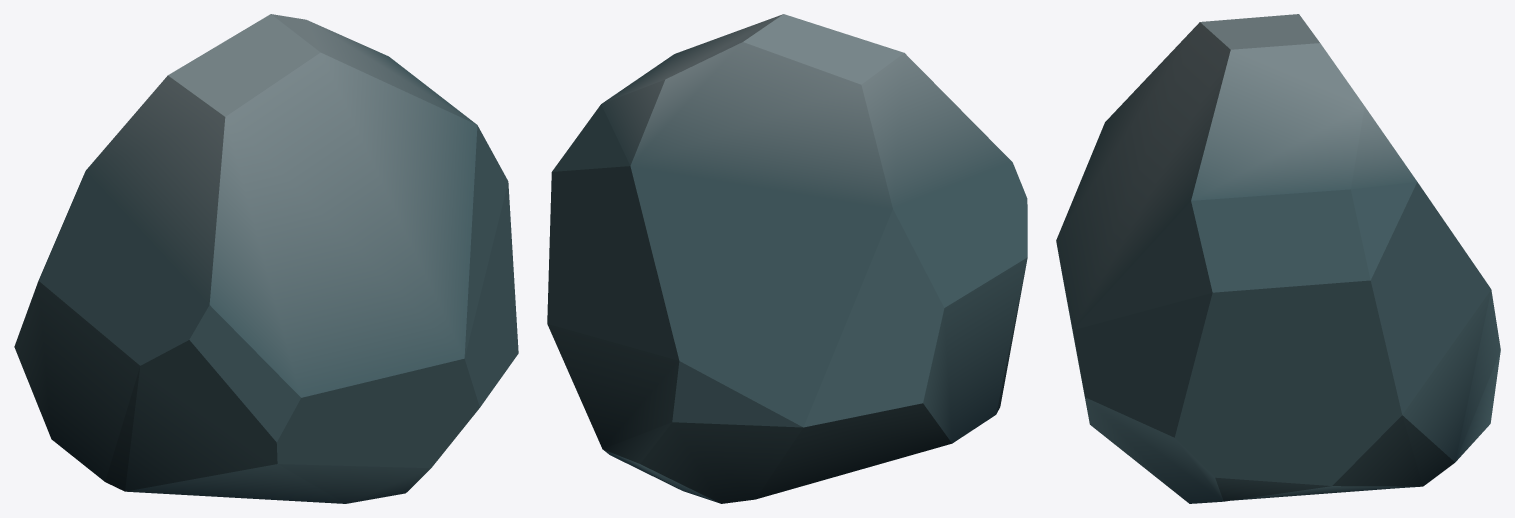
The model's file is Rock 5.fbx.
The picture shows the model from 3 angles, left to right: view 1: azimuth 30°, elevation 25°; view 2: azimuth 150°, elevation 25°; view 3: azimuth 270°, elevation 25°; orthographic projection. The views are drawn at different scales.
Parts seen in each view (by area): view 1: Rock 5; view 2: Rock 5; view 3: Rock 5.
Boxes of the visible parts, box(x1,y1,x2,y2) form: Rock 5: box(14, 14, 518, 503); Rock 5: box(547, 14, 1027, 503); Rock 5: box(1056, 14, 1500, 503).
Size of the model in its own units: 169 by 185 by 167.
